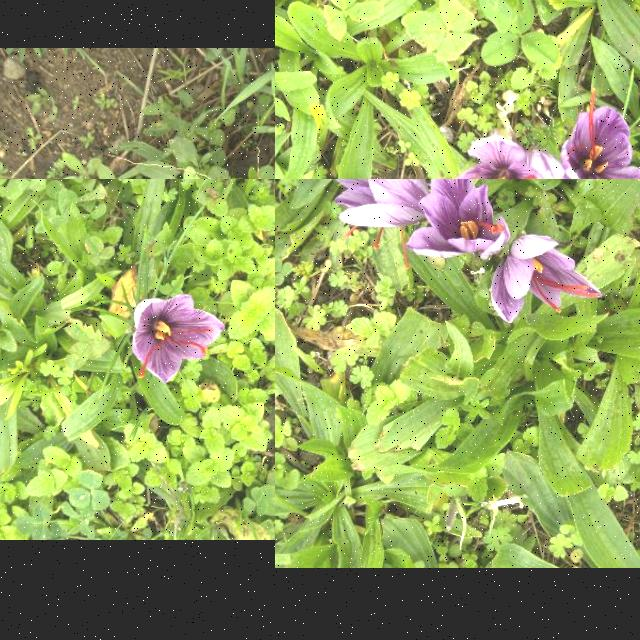flower: (318, 179, 430, 272), (492, 234, 602, 324), (417, 136, 619, 179), (132, 296, 228, 384), (407, 179, 511, 260), (562, 88, 640, 179)
